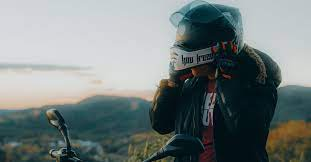helmets: (153, 1, 247, 78)
